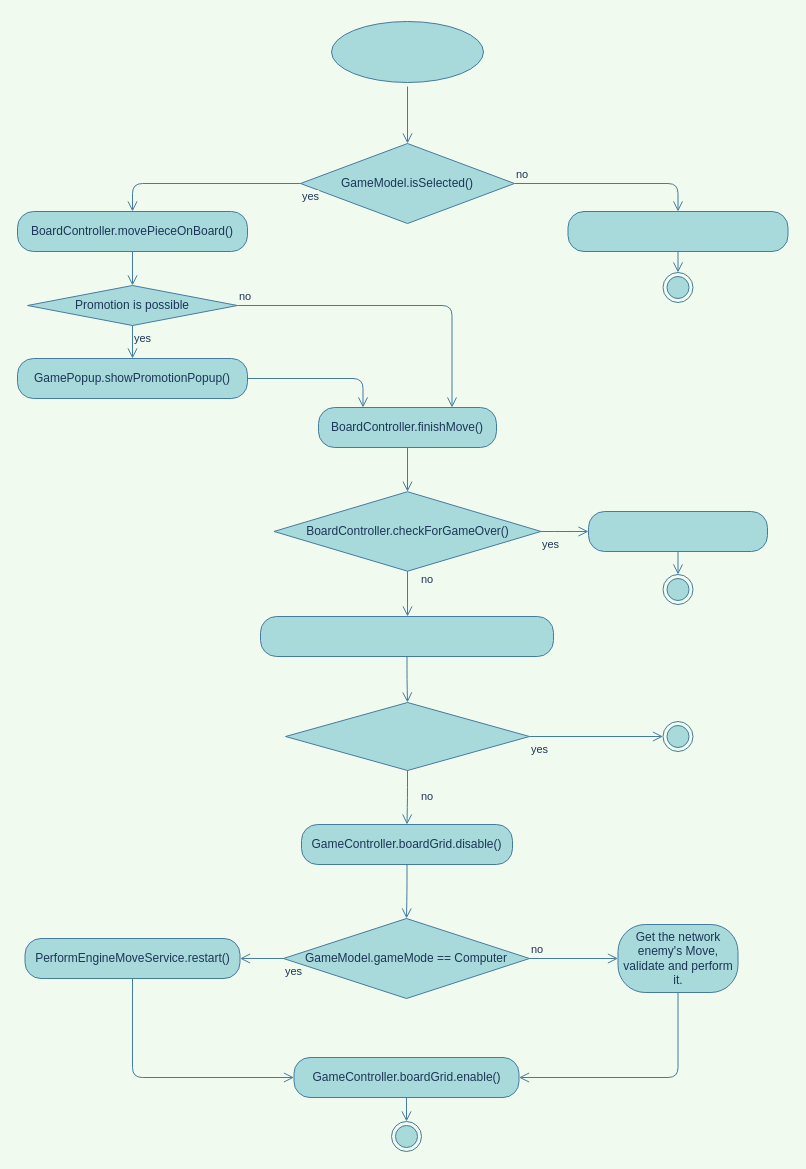
This 806x1169 diagram has some shape labels left out. The centre of each missing label's shape, as x and y in pixels:
"BoardController.continueAccordingToGameMode()" belongs at pixel 407 636.
"BoardController.endGame()" belongs at pixel 678 531.
"BoardController.showPossibleMoves()" belongs at pixel 677 231.
"GameModel.gameMode == Player" belongs at pixel 407 736.
"handleSqareMousePress()" belongs at pixel 407 51.
